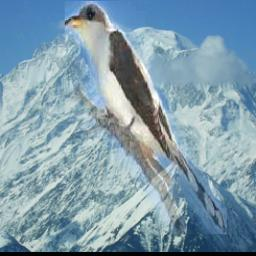Cuckoo: (64, 1, 226, 234)
